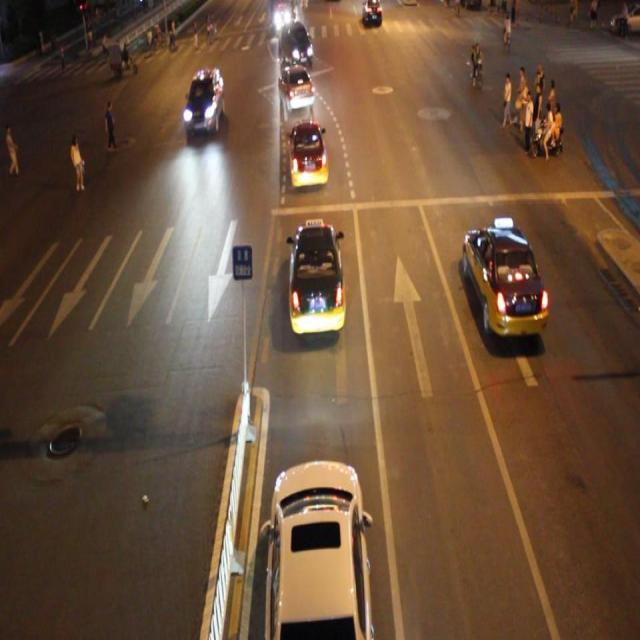car: (263, 455, 373, 640), (462, 223, 546, 340), (289, 220, 344, 334), (288, 120, 329, 190), (184, 67, 224, 126), (278, 67, 314, 113), (280, 23, 313, 68)
